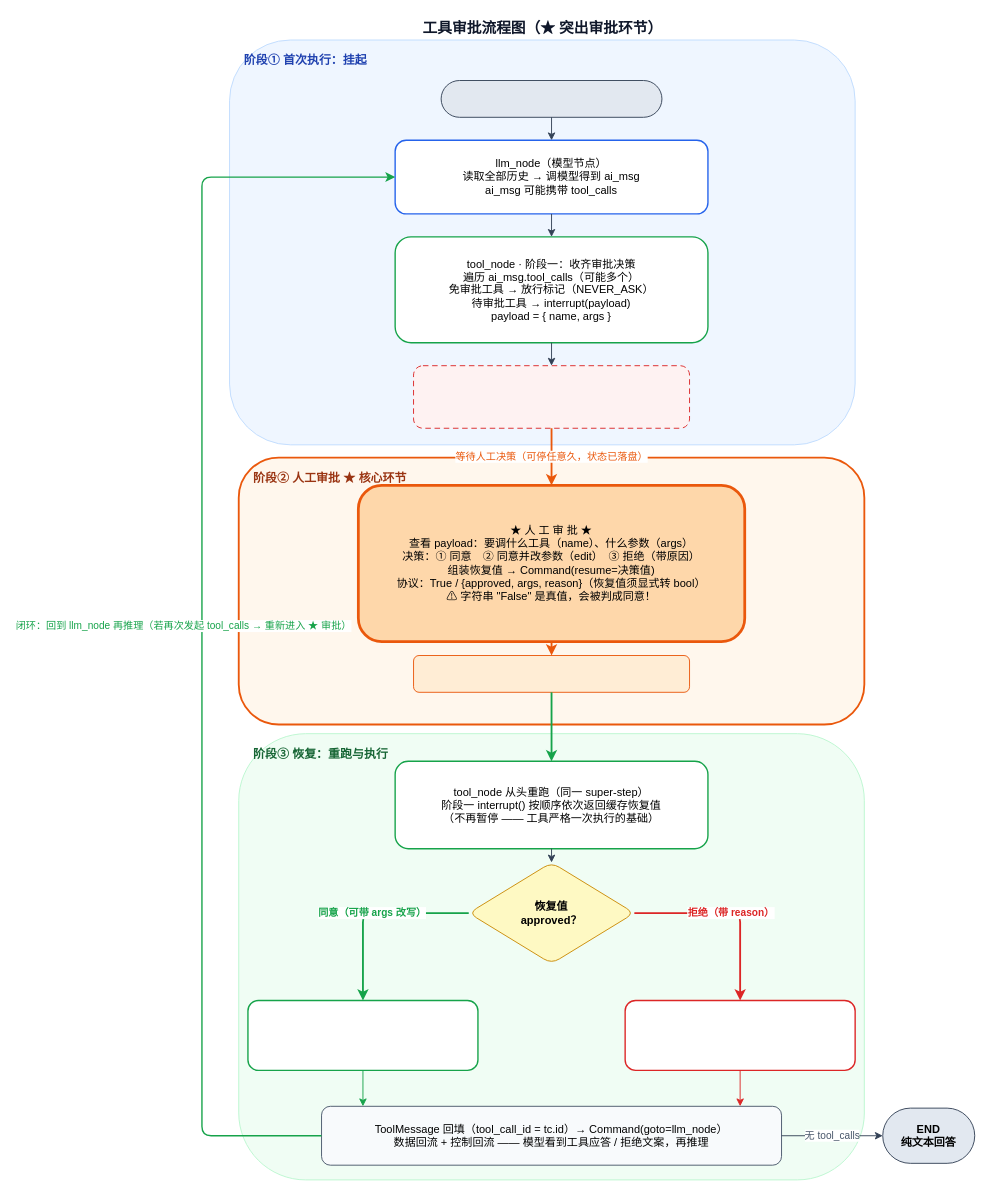
Image size: 991x1196. Some labels were removed from this diagram. Each missing label, with the centre of its shape:
"graph.invoke(Command(resume=决策), config)" goes at (551,673).
"raise GraphInterrupt 图挂起 · 状态落盘 · 返回 __interrupt__" goes at (551,396).
"不执行，回填拒绝文案： 用户拒绝执行（reason），请直接回答" goes at (739,1035).
"开始：用户消息" goes at (551,98).
"执行工具：tool.invoke(args) args = 恢复值带的新参数（若有）" goes at (362,1035).
